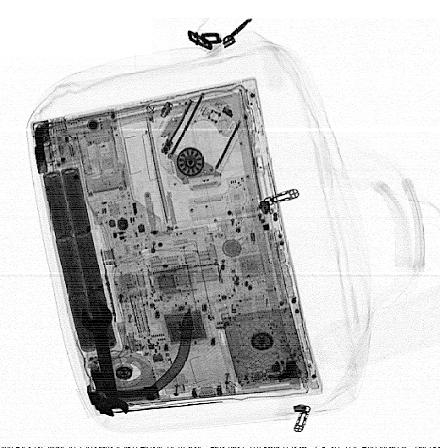Wrench: (80, 304, 130, 417)
